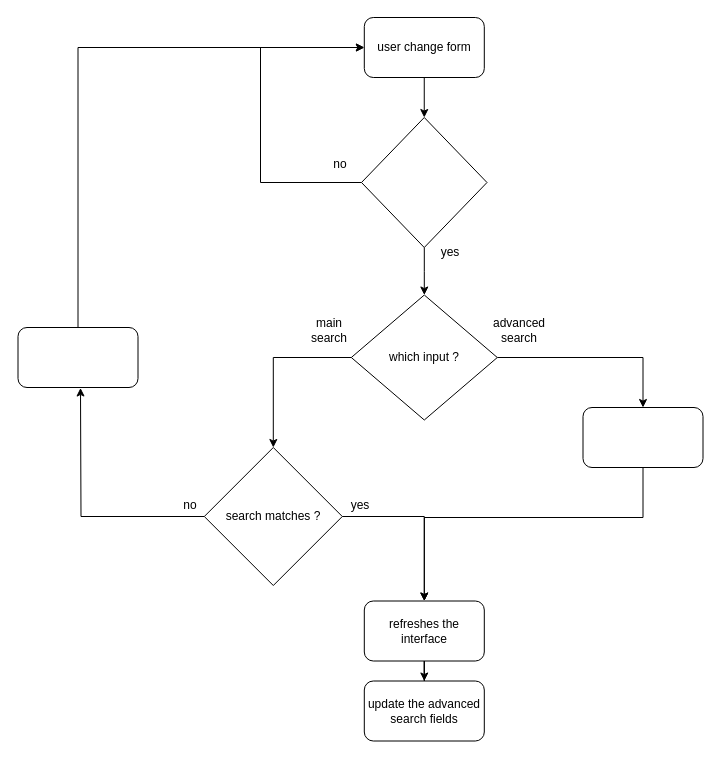
Some shapes in this 720 by 759 pixel diagram are drawn without their labels. The centre of each missing label's shape, as x and y in pixels:
display "aucun résultat trouvé": (77,357)
display tag: (642,437)
min 3 characters ?: (423,182)
